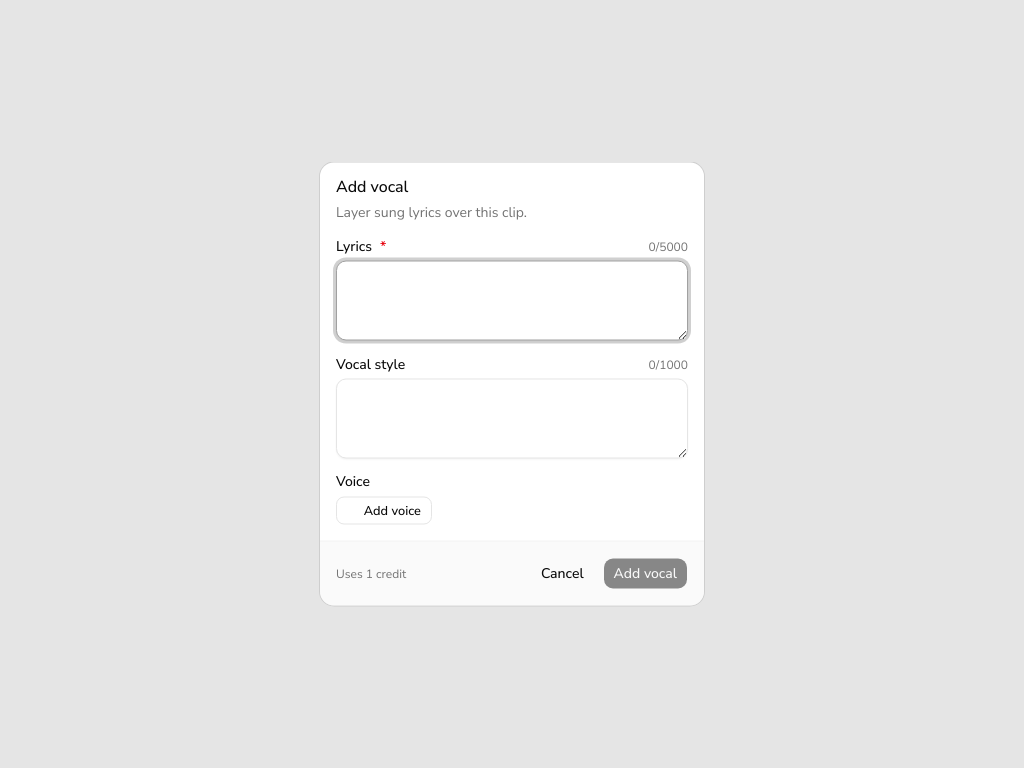
AddVocalModal › submits the add-vocal payload to the add-vocal endpoint and reaches success
Step 1. Type "la la la" into the text box labelled "Lyrics *" → [512, 300], box [336,260,688,340]
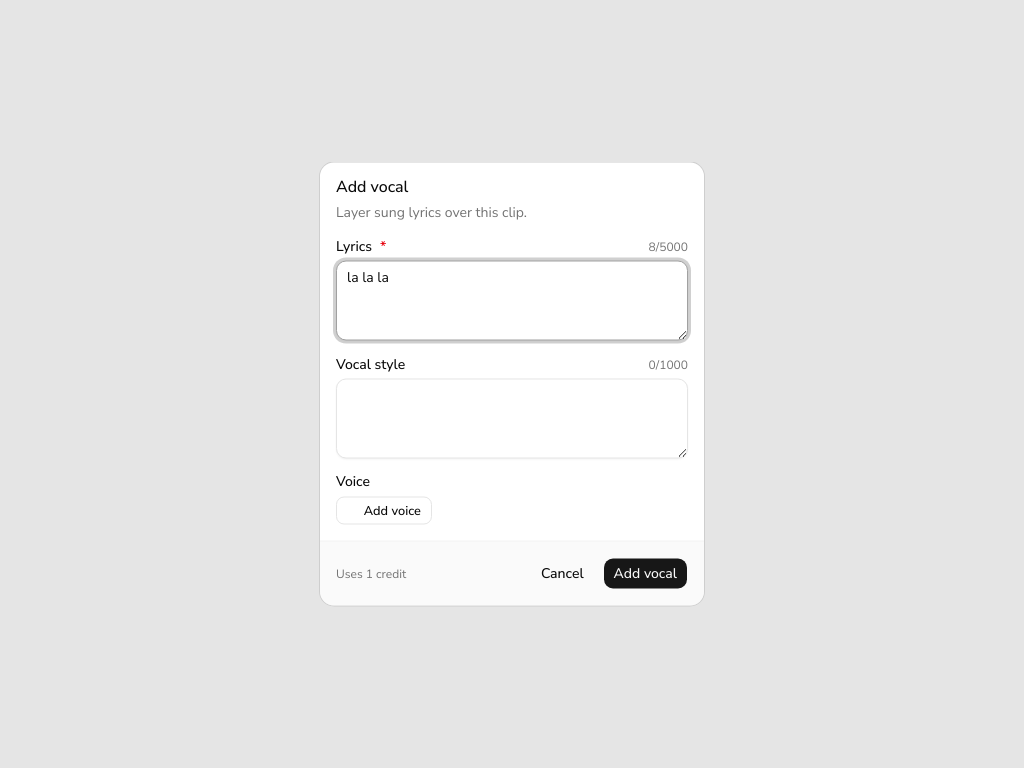
Step 2. Click the button "Add vocal" → [645, 574], box [603,558,688,590]
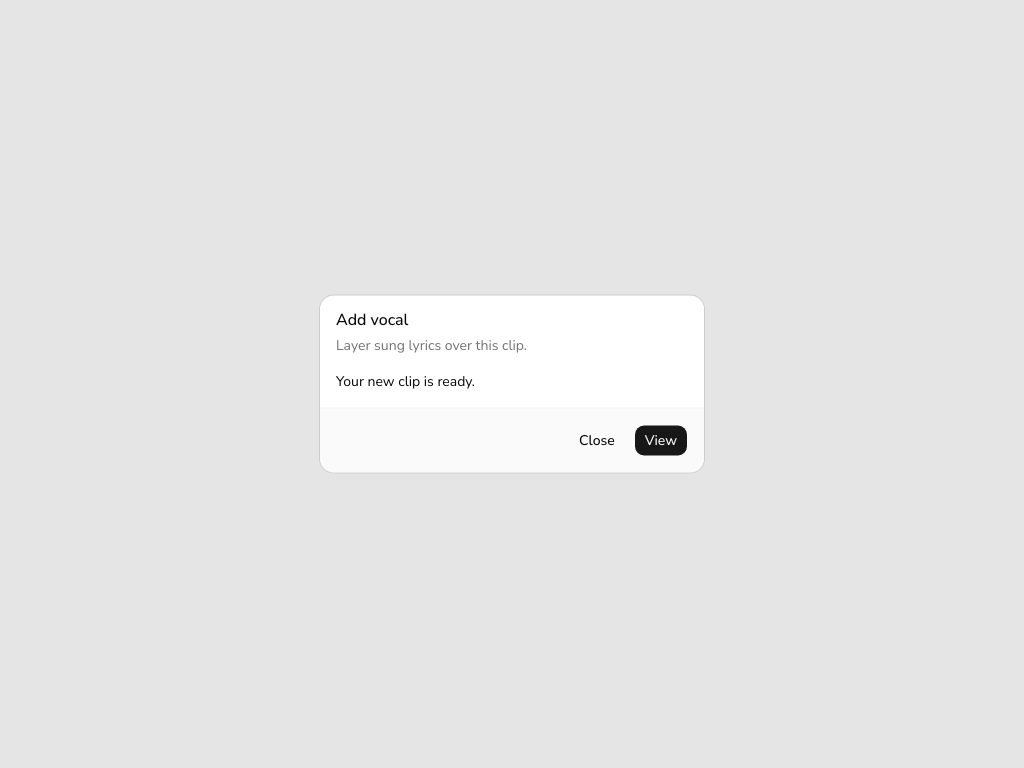
Expected: the text "Your new clip is ready." is shown, [336,372,475,390]
